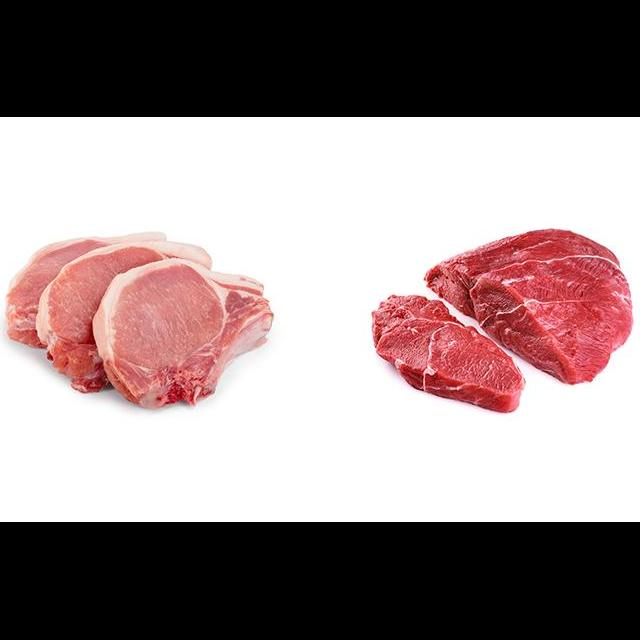beef: (422, 211, 640, 394), (363, 288, 554, 434)
